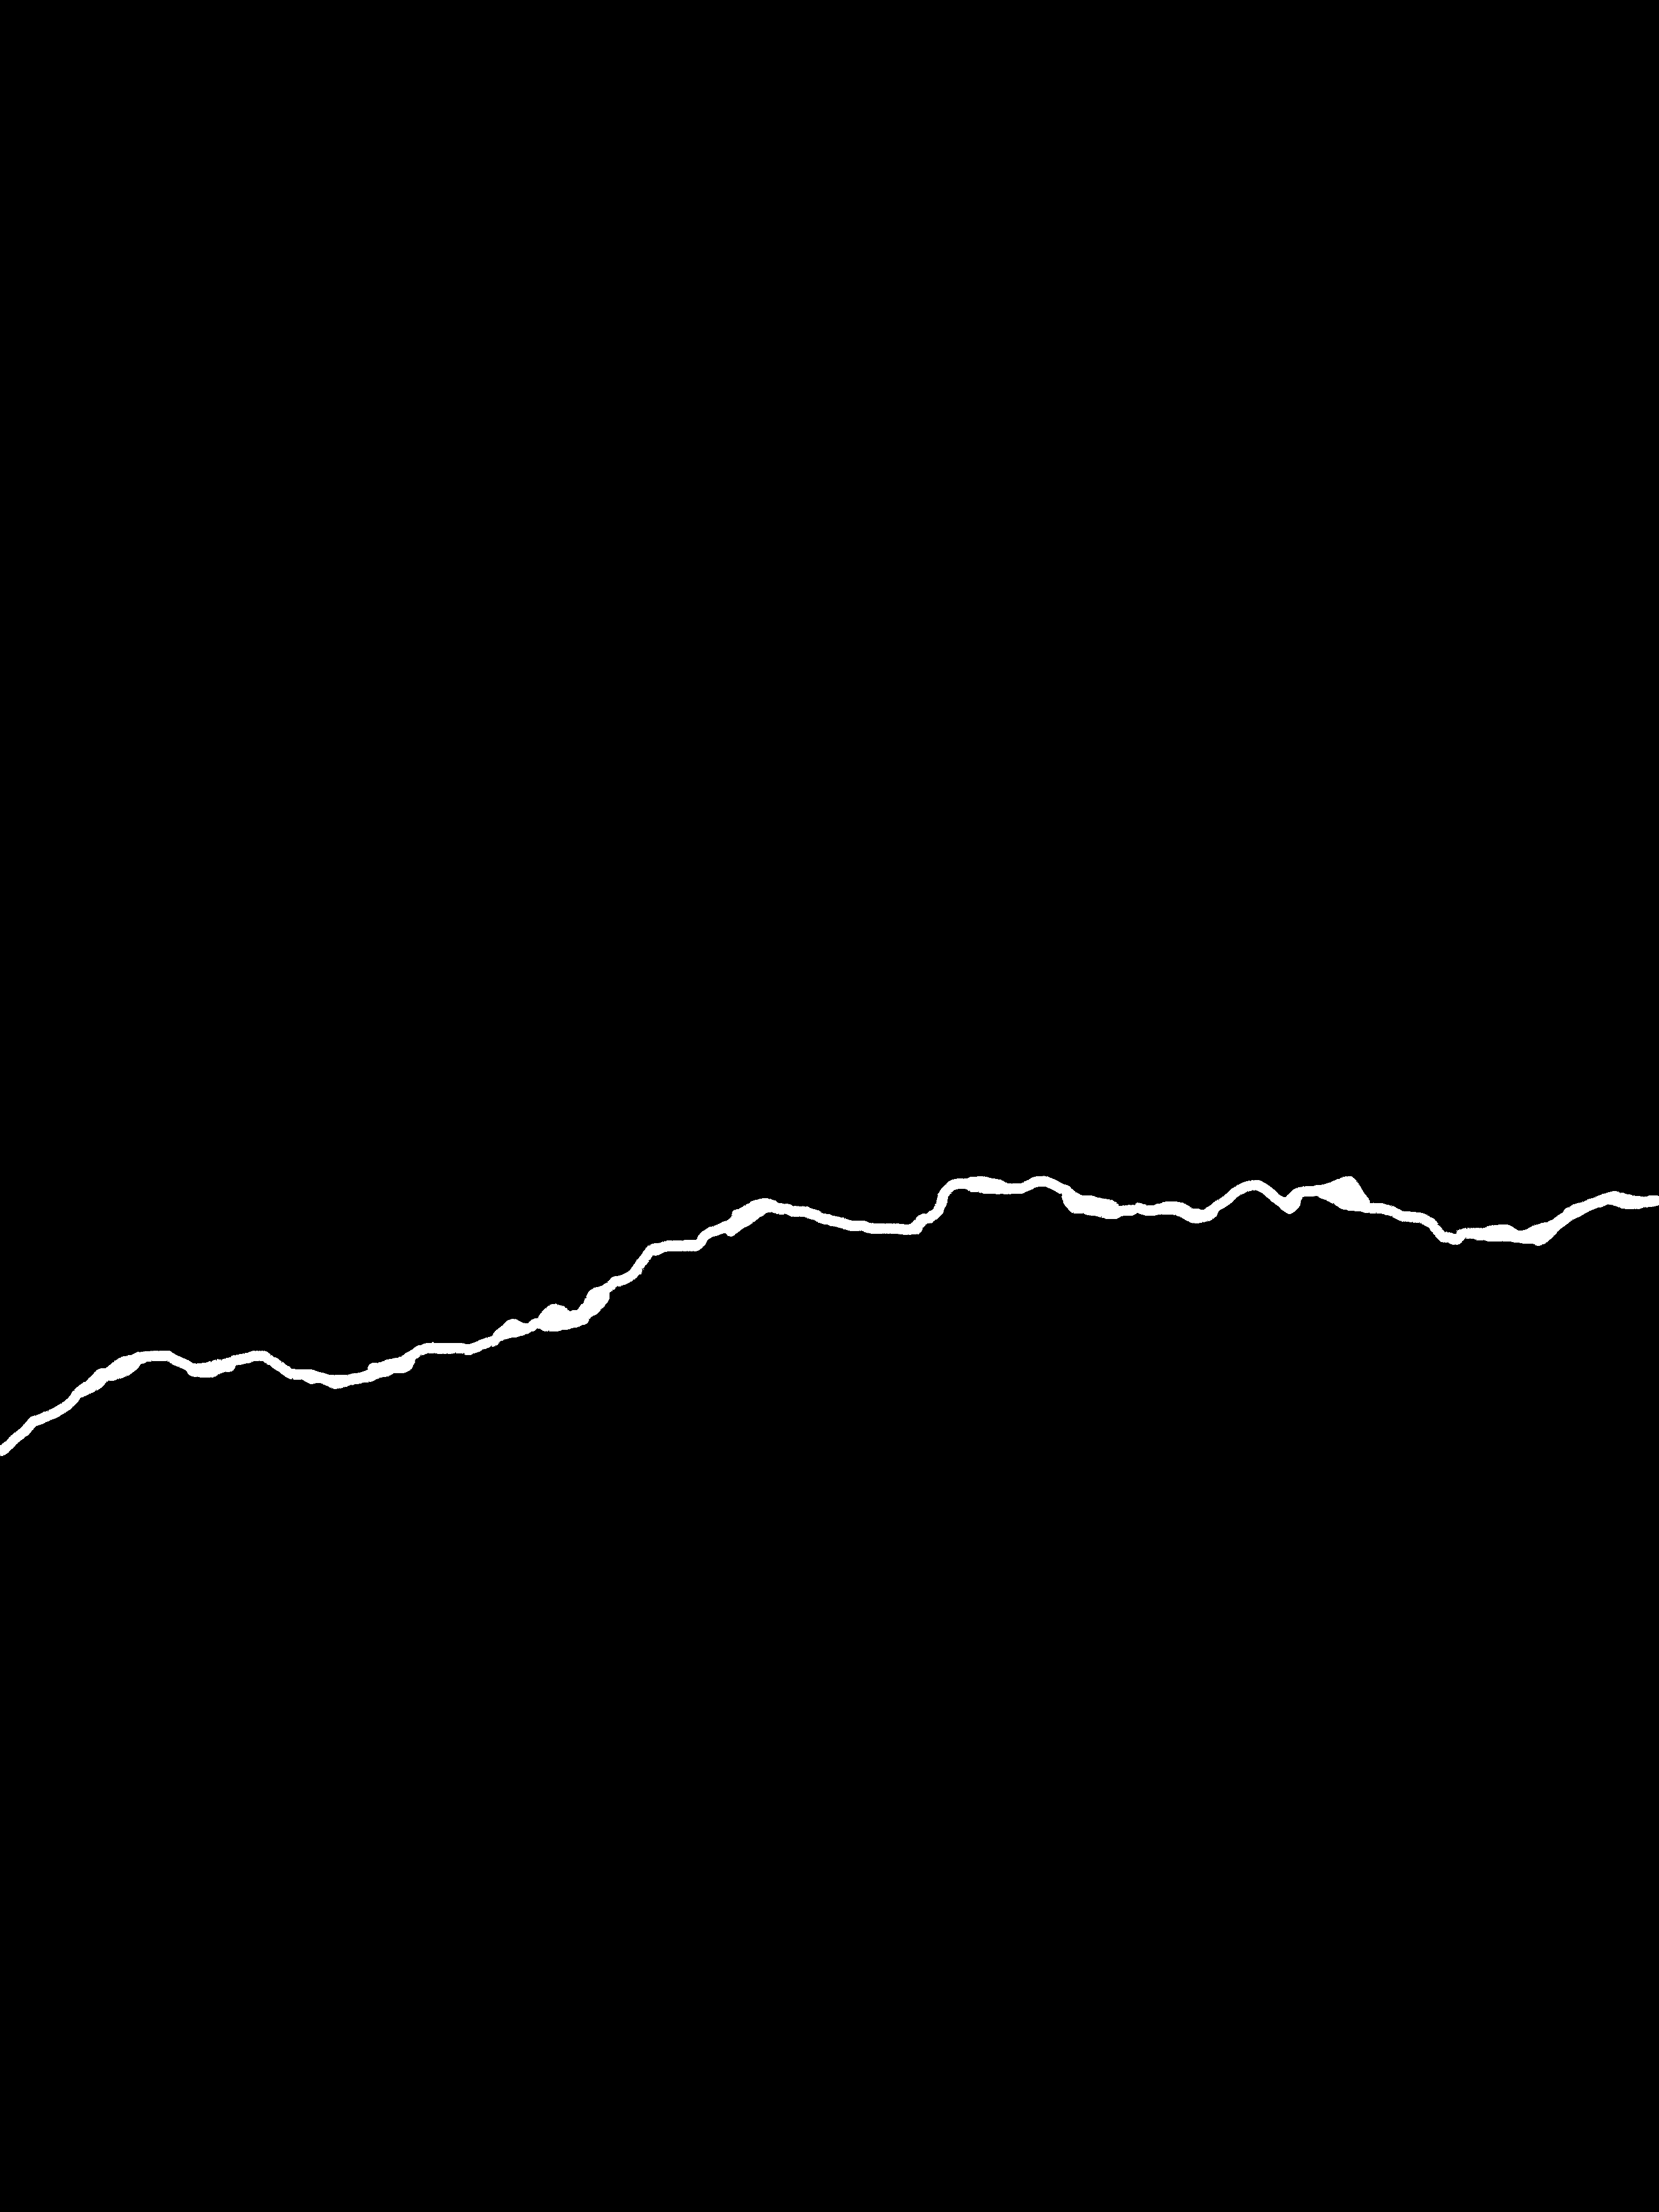Crack: (0, 1151, 1659, 1487)
